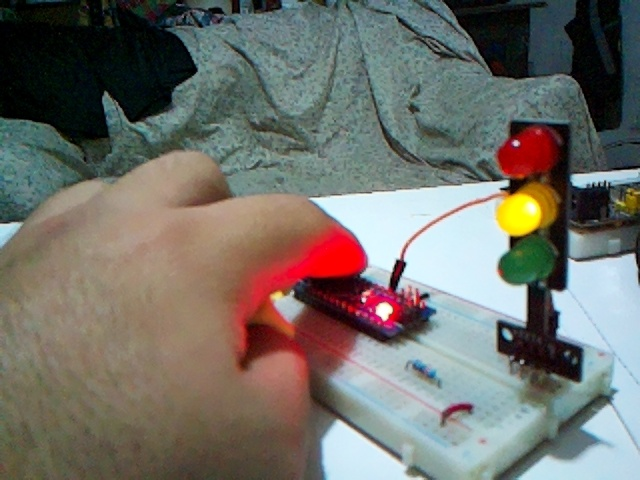traffic_light_yellow: (496, 120, 572, 376)
